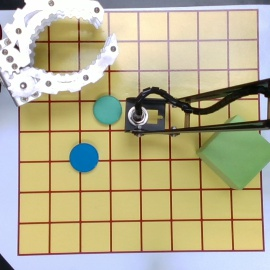blue: (70, 143, 99, 172)
green: (93, 96, 122, 125)
